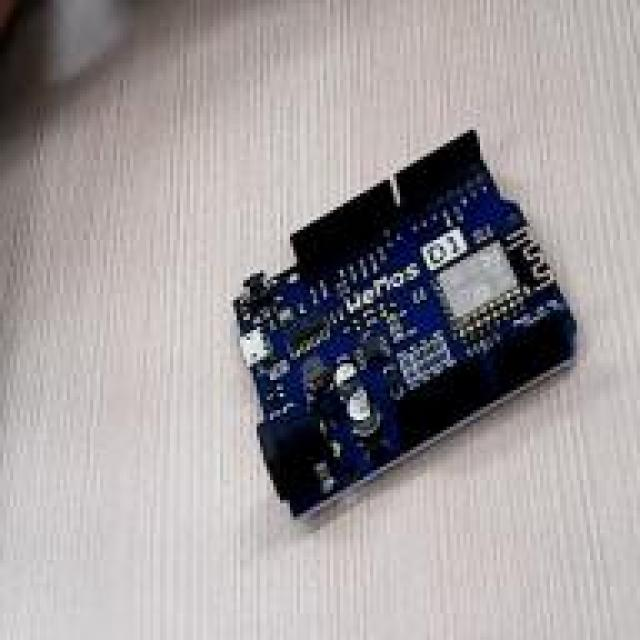Wemos: (234, 131, 574, 514)
